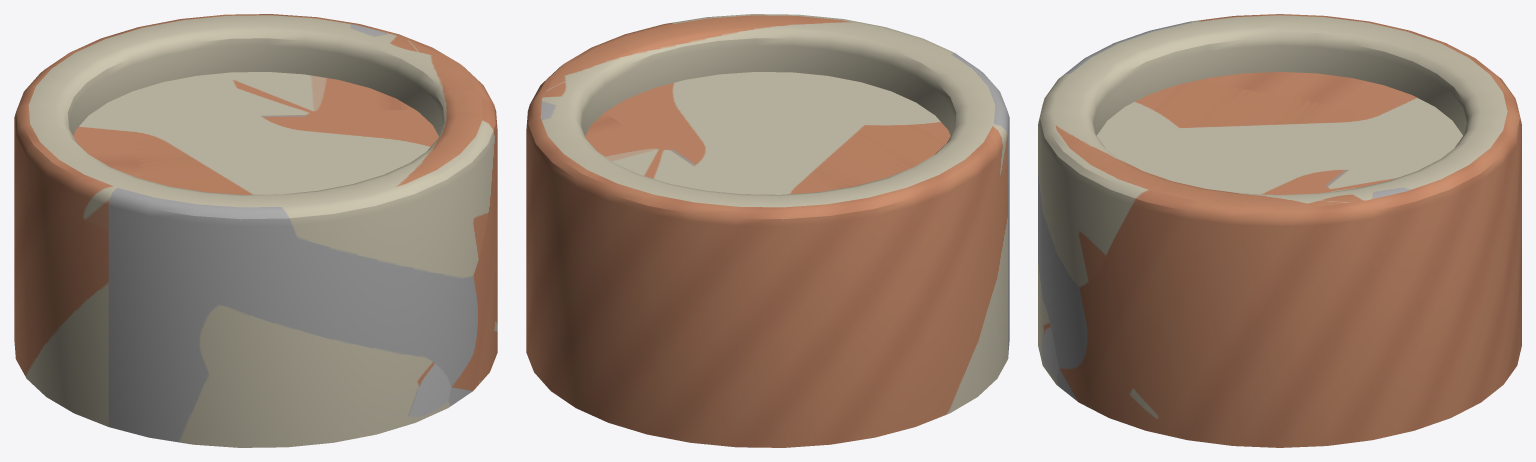
File: Mesh_Enviro_Marmite_Choco.fbx
The picture shows the model from 3 angles, left to right: view 1: azimuth 30°, elevation 25°; view 2: azimuth 150°, elevation 25°; view 3: azimuth 270°, elevation 25°; orthographic projection.
Parts seen in each view (by area): view 1: marmite_pomme_choco; view 2: marmite_pomme_choco; view 3: marmite_pomme_choco.
Boxes of the visible parts, x1=… form: marmite_pomme_choco: x1=14, y1=14, x2=497, y2=447; marmite_pomme_choco: x1=526, y1=14, x2=1009, y2=447; marmite_pomme_choco: x1=1038, y1=14, x2=1521, y2=447.
Size of the model in its own units: 25.96 by 13.86 by 25.96.
